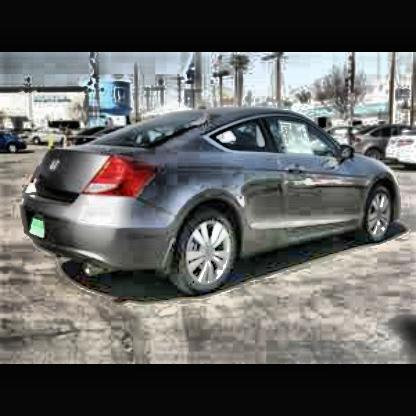Honda Accord Coupe 2012: (22, 111, 404, 294)
